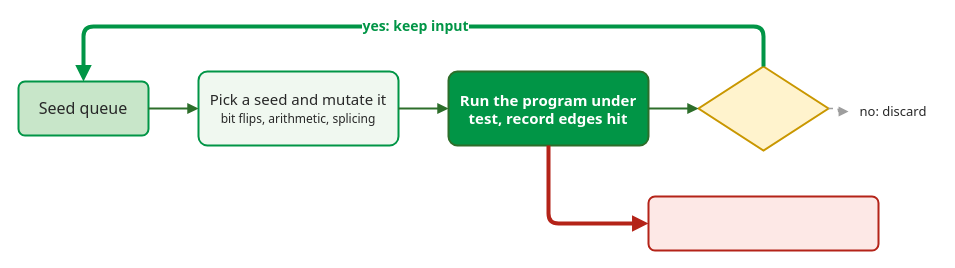
This 955x268 diagram has some shape labels left out. Here are the shapes that lost their labels. From the top down, the centre of each, then its label:
the point at 763,108: new coverage?
the point at 763,223: Crash or sanitizer report → save as a bug
